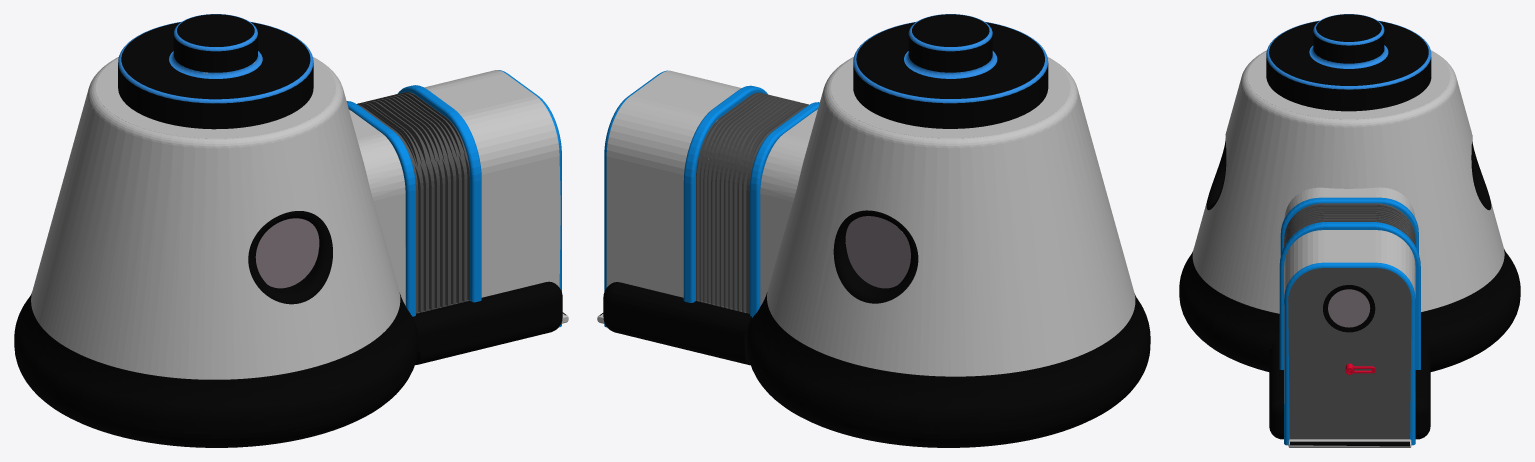
File: MarsHub.fbx
3 views of the same model, side by side, from view 1: azimuth 30°, elevation 25°; view 2: azimuth 150°, elevation 25°; view 3: azimuth 270°, elevation 25° (orthographic). The views are drawn at different scales.
Visible parts, largest first — view 1: base, BottomTrim, TopBase, AluminumInnerTrim, AluminumTrim, Windows, WindowTrim, TopBaseTrim; view 2: base, BottomTrim, TopBase, AluminumInnerTrim, AluminumTrim, Windows, TopBaseTrim, WindowTrim; view 3: base, Door, BottomTrim, TopBase, AluminumTrim, AluminumInnerTrim, TopBaseTrim, WindowTrim, Windows.
Boxes of the visible parts, x1,y1,x2,y2 form: base: [31, 57, 568, 379]; BottomTrim: [14, 281, 566, 447]; TopBase: [118, 14, 313, 129]; AluminumInnerTrim: [357, 92, 469, 313]; AluminumTrim: [346, 70, 561, 326]; Windows: [255, 218, 319, 288]; WindowTrim: [248, 211, 332, 304]; TopBaseTrim: [118, 14, 313, 103]; base: [597, 56, 1135, 376]; BottomTrim: [599, 282, 1150, 447]; TopBase: [853, 14, 1048, 128]; AluminumInnerTrim: [696, 92, 808, 313]; AluminumTrim: [604, 70, 819, 327]; Windows: [845, 216, 910, 288]; TopBaseTrim: [853, 14, 1048, 103]; WindowTrim: [833, 210, 918, 303]; base: [1192, 50, 1504, 447]; Door: [1288, 268, 1411, 439]; BottomTrim: [1179, 249, 1520, 446]; TopBase: [1266, 14, 1431, 111]; AluminumTrim: [1279, 197, 1420, 445]; AluminumInnerTrim: [1284, 203, 1415, 246]; TopBaseTrim: [1266, 14, 1431, 89]; WindowTrim: [1206, 134, 1491, 332]; Windows: [1328, 289, 1370, 327].
Bounding box in the file's own units: 18083 × 12000 × 12812.
